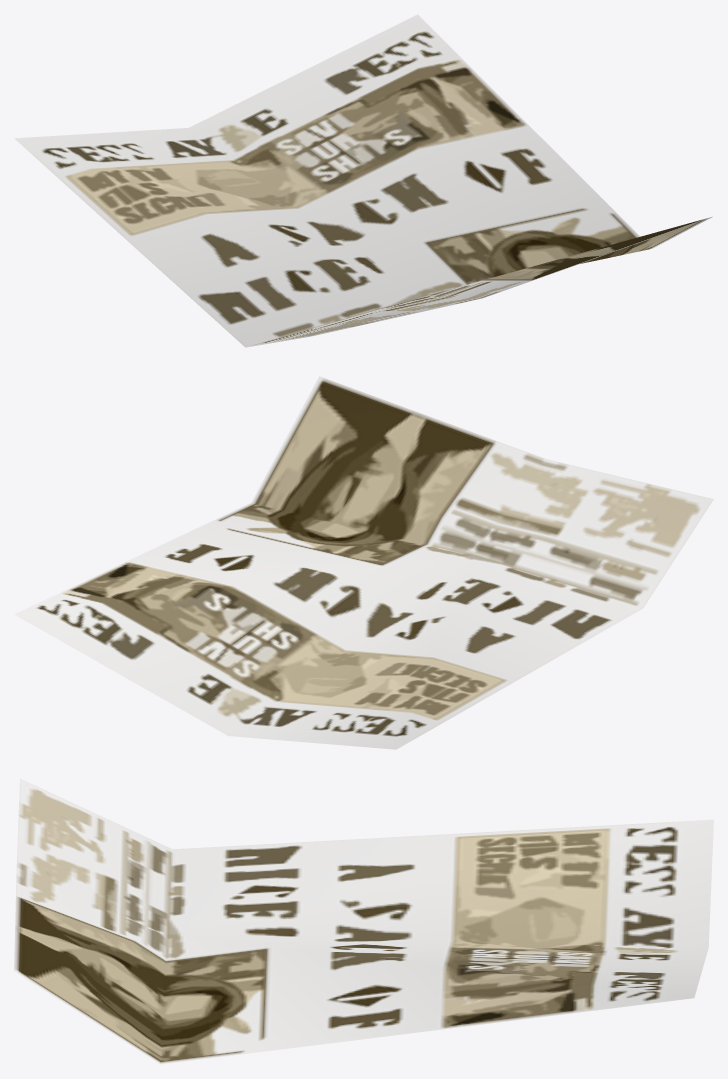
Rendered from SM_PROP_paper_02.fbx.
3 views of the same model, one above another, from view 1: azimuth 30°, elevation 25°; view 2: azimuth 150°, elevation 25°; view 3: azimuth 270°, elevation 25° (orthographic). The views are drawn at different scales.
Visible parts, largest first — view 1: SM_PROP_paper_02; view 2: SM_PROP_paper_02; view 3: SM_PROP_paper_02.
Part boxes in pixels (<box>): SM_PROP_paper_02: <box>14,14,712,347</box>; SM_PROP_paper_02: <box>14,376,713,749</box>; SM_PROP_paper_02: <box>14,778,713,1064</box>.
Size of the model in its own units: 37.5 by 7.54 by 49.58.
